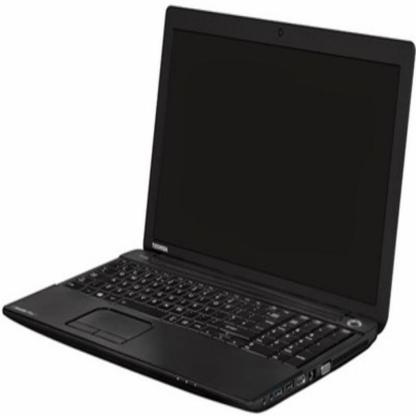board: (3, 12, 416, 412)
